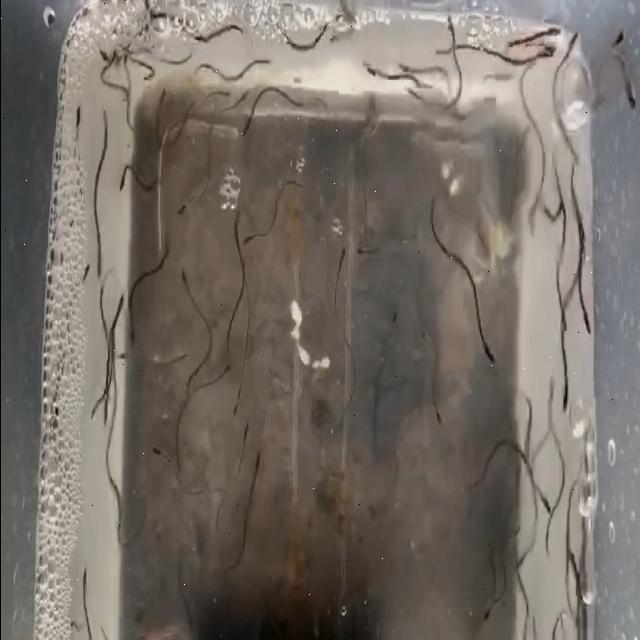inactive_glass_eel: (96, 41, 125, 109), (578, 272, 602, 350), (347, 56, 380, 111), (471, 588, 505, 638), (167, 263, 198, 315), (382, 294, 406, 352), (75, 244, 99, 302), (356, 217, 378, 277), (553, 376, 575, 434), (106, 286, 130, 338), (170, 187, 190, 245), (224, 376, 249, 422), (473, 334, 498, 378), (233, 220, 256, 266), (235, 66, 255, 116), (148, 424, 168, 474), (234, 112, 252, 167), (603, 33, 629, 71), (230, 422, 252, 464), (534, 480, 552, 530), (625, 68, 640, 124), (328, 240, 348, 282), (212, 354, 234, 392), (536, 40, 558, 76), (430, 390, 445, 440), (542, 17, 564, 49), (250, 446, 262, 480)
